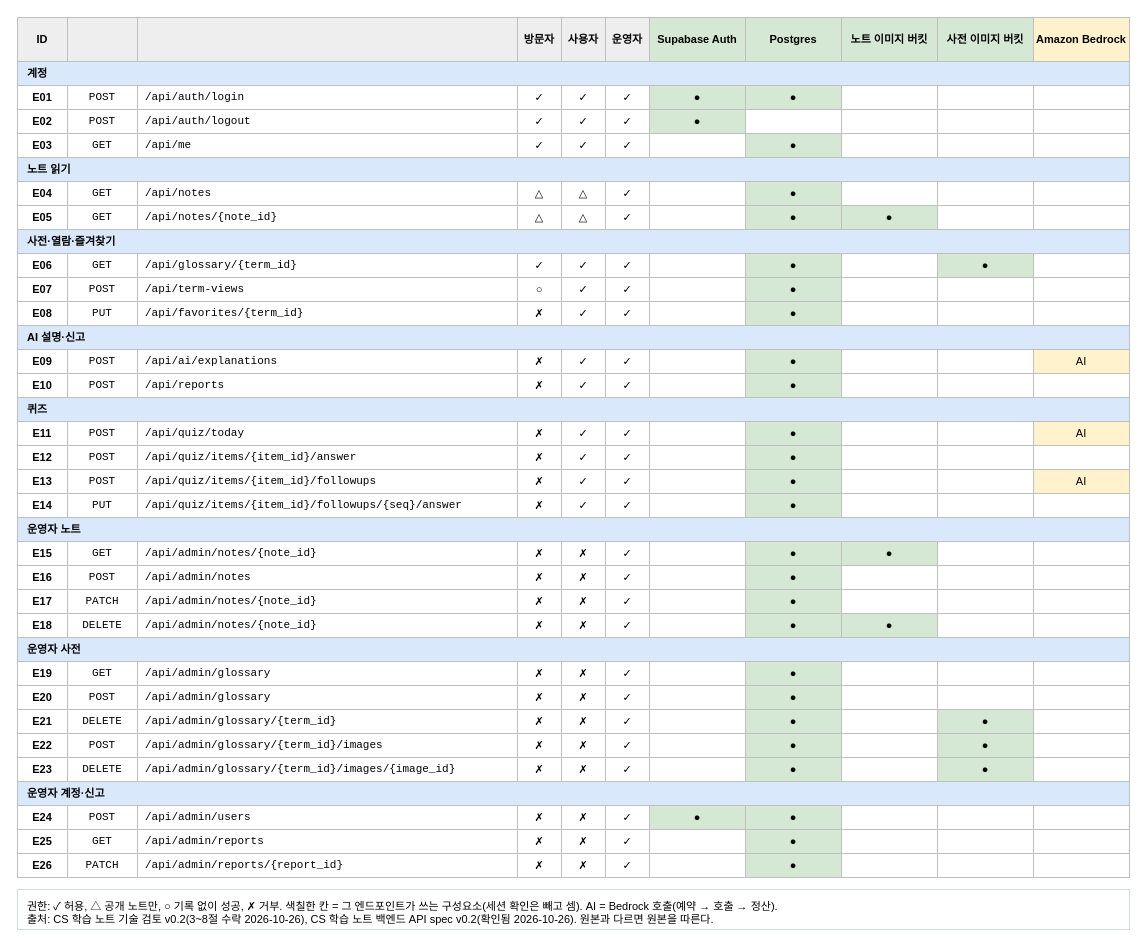
Some shapes in this 1147 by 947 pixel diagram are drawn without their labels. The shapes that lost their labels are listed below. From the top down, each one's box as (x1, y1, x2, y2) in pixels, then its label:
(66, 16, 138, 62): 메서드
(136, 16, 518, 62): 경로
